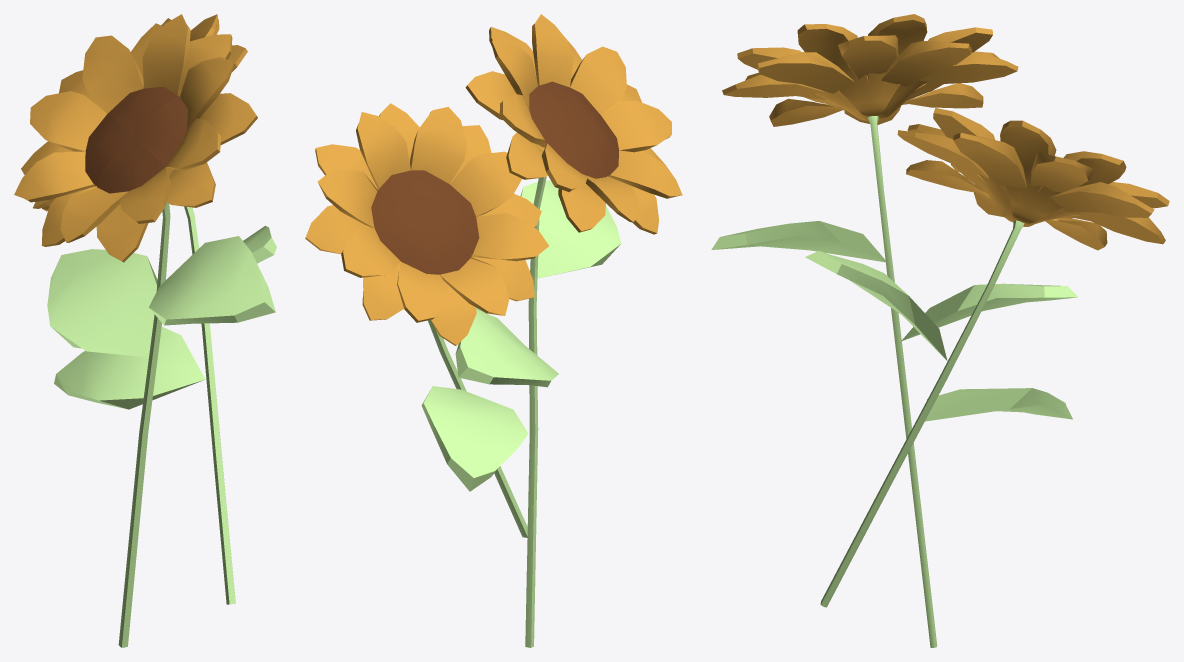
File: Sunflowers.fbx
3 renders of one model, left to right at view 1: azimuth 30°, elevation 25°; view 2: azimuth 150°, elevation 25°; view 3: azimuth 270°, elevation 25°, orthographic. The views are drawn at different scales.
Visible parts, largest first — view 1: Sunflower; view 2: Sunflower; view 3: Sunflower.
Part boxes in pixels (x1=…): Sunflower: x1=14, y1=14, x2=276, y2=647; Sunflower: x1=305, y1=14, x2=682, y2=647; Sunflower: x1=711, y1=14, x2=1169, y2=647.
Bounding box in the file's own units: 73.89 × 163 × 103.
